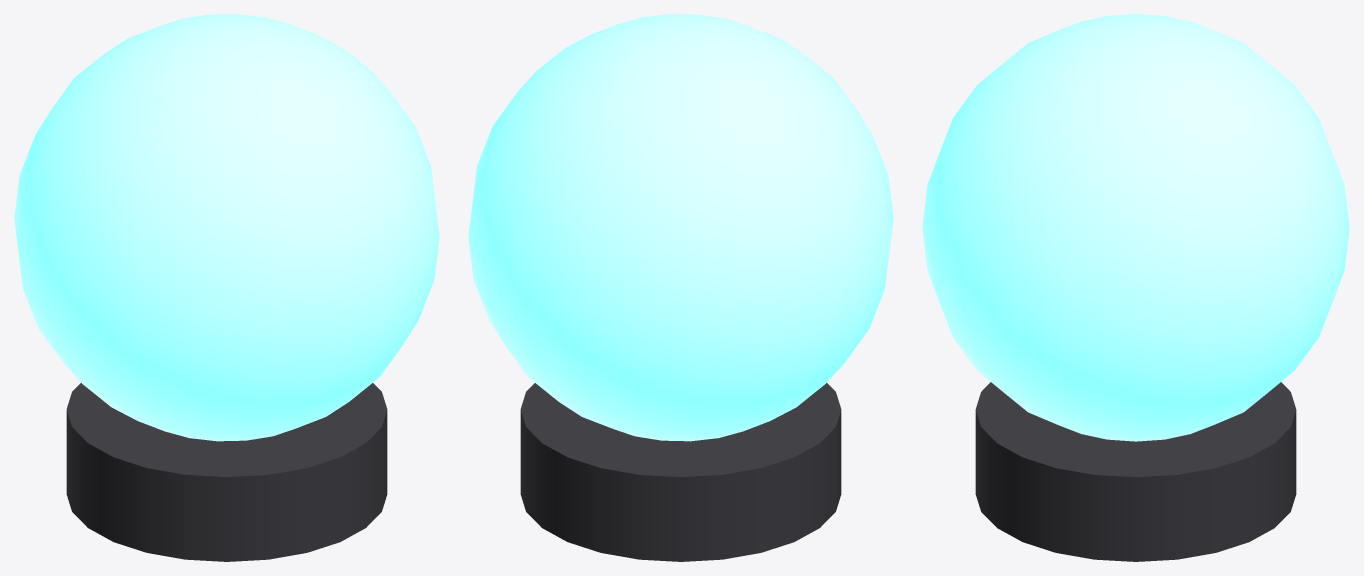
The model's file is orb.glb.
3 renders of one model, left to right at view 1: azimuth 30°, elevation 25°; view 2: azimuth 150°, elevation 25°; view 3: azimuth 270°, elevation 25°, orthographic.
Parts seen in each view (by area): view 1: orb.glb; view 2: orb.glb; view 3: orb.glb.
Boxes of the visible parts, x1,y1,x2,y2 form: orb.glb: (14, 14, 439, 561); orb.glb: (468, 14, 893, 561); orb.glb: (922, 14, 1349, 561).
Bounding box in the file's own units: 0.16 × 0.19 × 0.16.
